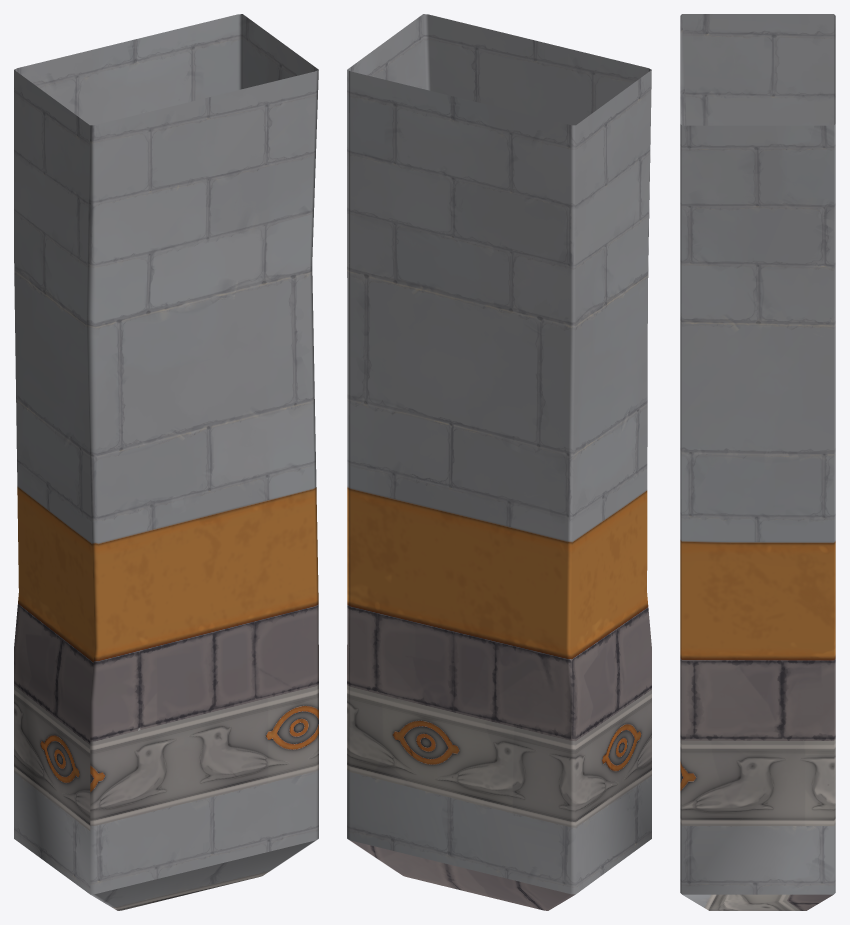
File: SM_SmallArch.fbx
The picture shows the model from 3 angles, left to right: view 1: azimuth 30°, elevation 25°; view 2: azimuth 150°, elevation 25°; view 3: azimuth 270°, elevation 25°; orthographic projection.
Visible parts, largest first — view 1: SM_SmallArch; view 2: SM_SmallArch; view 3: SM_SmallArch.
Part boxes in pixels (box(x1,y1,x2,y2)): SM_SmallArch: box(14, 14, 318, 910); SM_SmallArch: box(347, 14, 651, 910); SM_SmallArch: box(680, 14, 835, 910).
Bounding box in the file's own units: 0.6222 × 2.1 × 0.3668.
